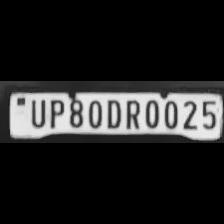0: (140, 97, 160, 128), (85, 97, 103, 128), (161, 97, 179, 128)
2: (178, 97, 198, 130)
5: (198, 98, 218, 130)
8: (65, 97, 83, 128)
D: (104, 97, 120, 128)
P: (46, 97, 64, 128)
R: (122, 97, 140, 128)
U: (26, 97, 46, 128)
